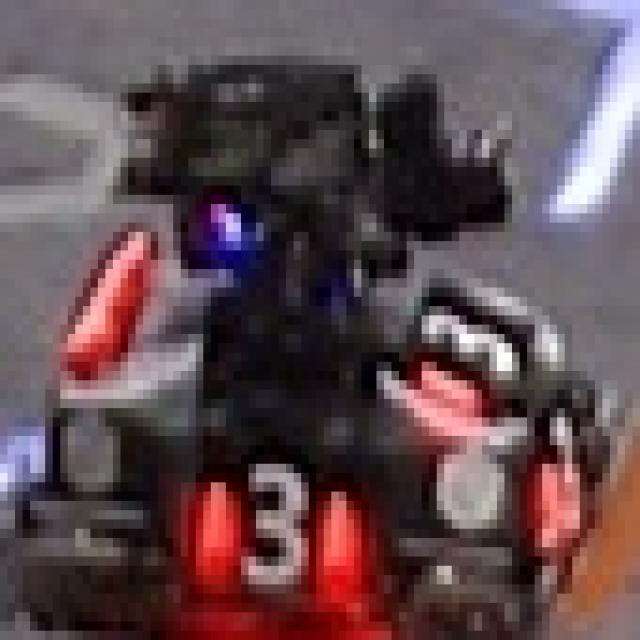R3: (188, 445, 362, 603)
